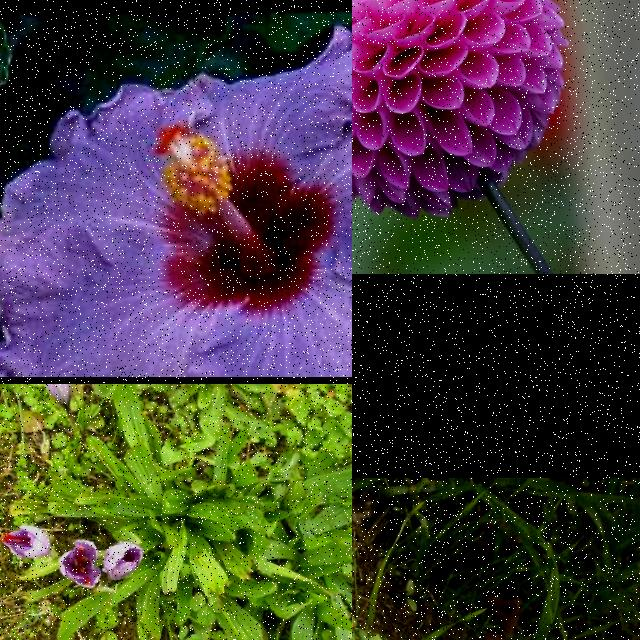flower: (60, 541, 102, 589), (0, 525, 51, 560), (101, 542, 142, 582)
